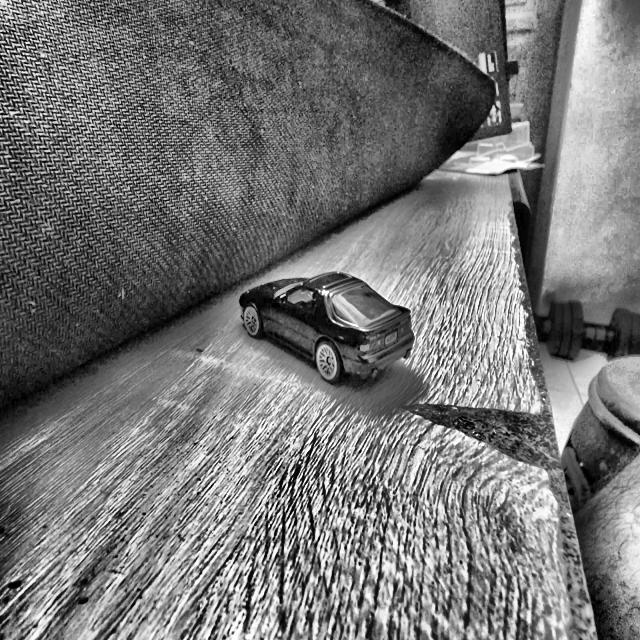car: (238, 271, 415, 386)
